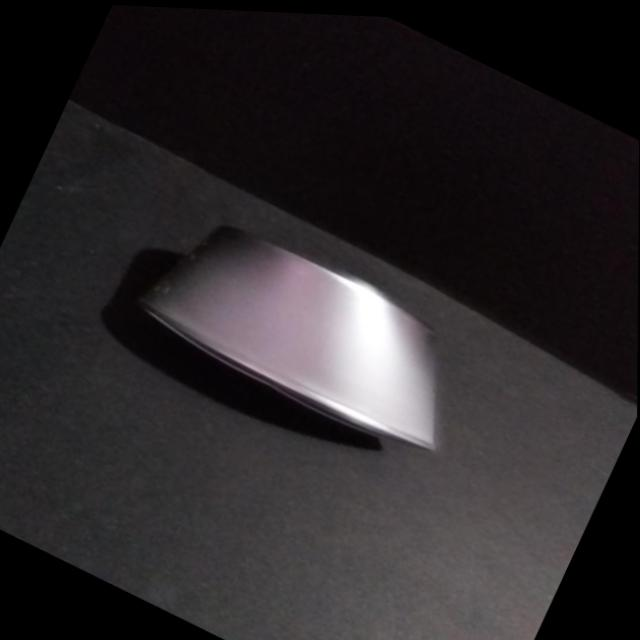metal: (104, 227, 435, 448)
